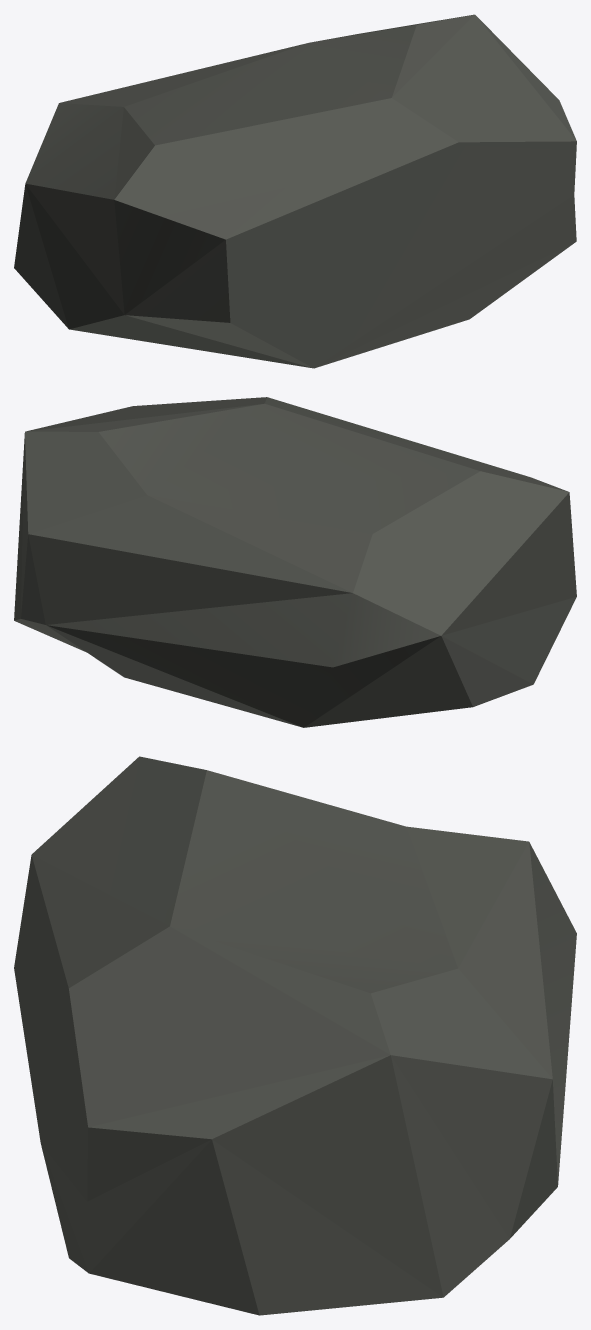
Rendered from S_Rock_04.fbx.
3 renders of one model, top to bottom at view 1: azimuth 30°, elevation 25°; view 2: azimuth 150°, elevation 25°; view 3: azimuth 270°, elevation 25°, orthographic. The views are drawn at different scales.
Visible parts, largest first — view 1: S_Rock_04; view 2: S_Rock_04; view 3: S_Rock_04.
Part boxes in pixels (x1,y1,x2,y2): S_Rock_04: (14, 14, 576, 368); S_Rock_04: (14, 397, 576, 727); S_Rock_04: (14, 756, 576, 1315).
Bounding box in the file's own units: 62.52 × 28.08 × 44.02.
1 material, 1 textured.
